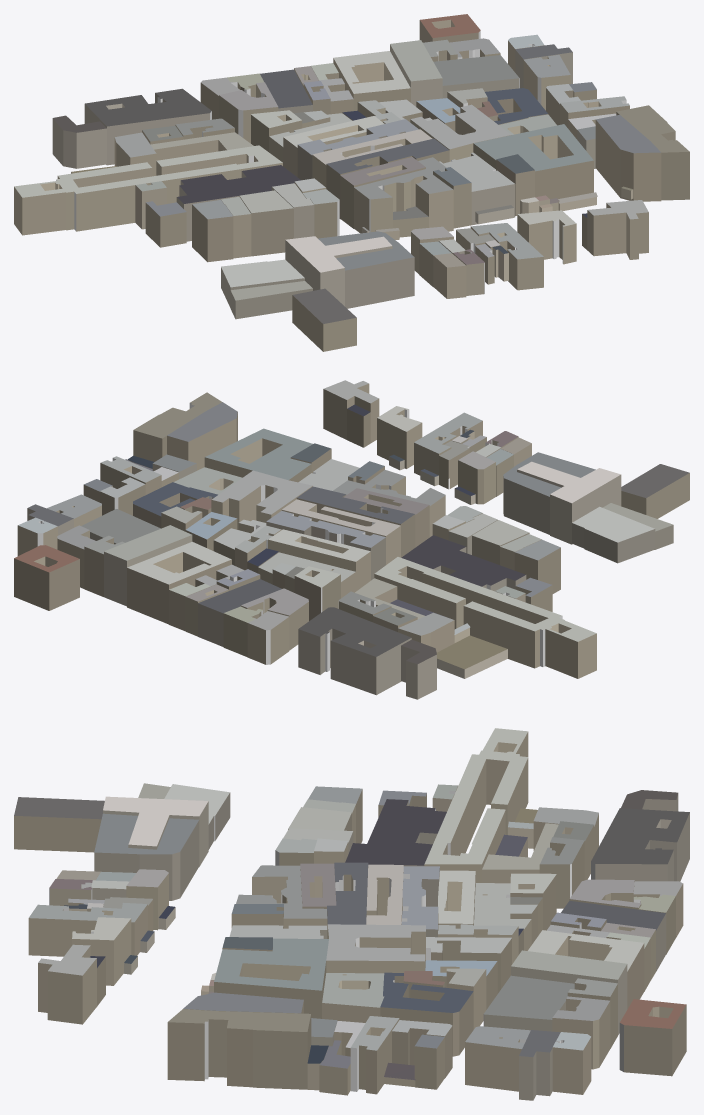
3 views of the same model, one above another, from view 1: azimuth 30°, elevation 25°; view 2: azimuth 150°, elevation 25°; view 3: azimuth 270°, elevation 25° (orthographic). The views are drawn at different scales.
Visible parts, largest first — view 1: tuile; view 2: tuile; view 3: tuile.
Boxes of the visible parts, bbox=[...] form: tuile: bbox=[14, 14, 689, 351]; tuile: bbox=[14, 380, 689, 699]; tuile: bbox=[14, 728, 689, 1100].
Bounding box in the file's own units: 322 × 30.49 × 278.
